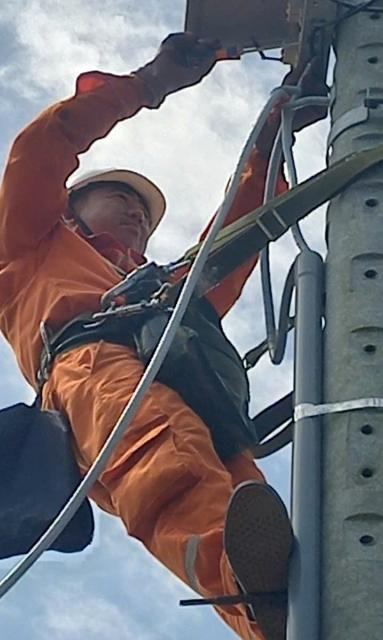gloves: (122, 14, 264, 113)
harness: (0, 289, 254, 390)
helmet: (29, 129, 202, 249)
shoes: (199, 470, 327, 640)
